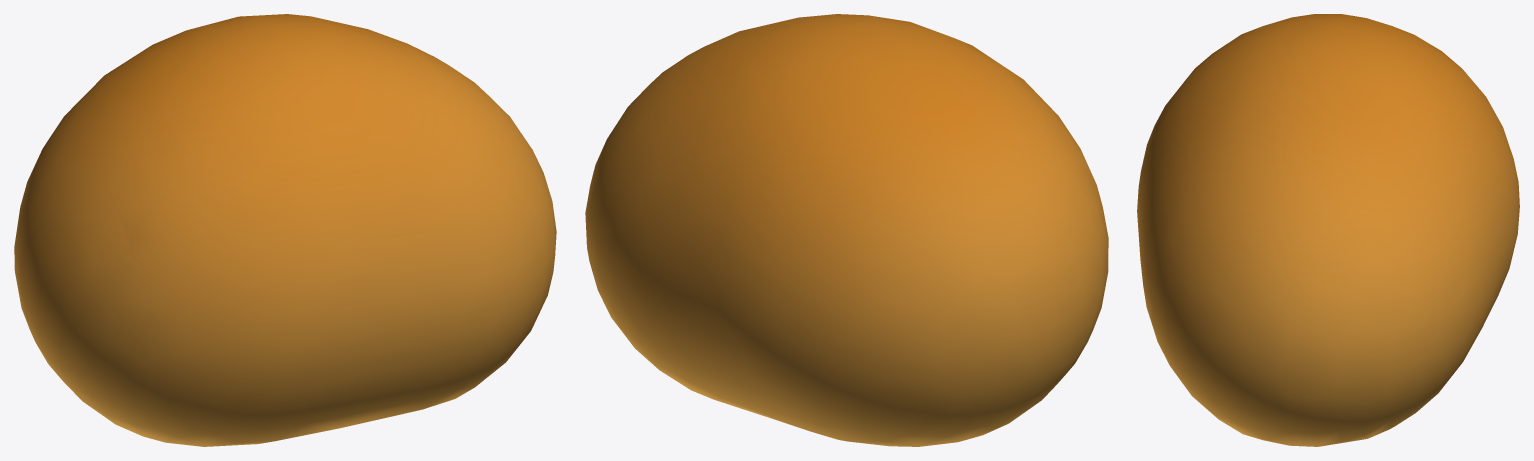
The model's file is fosil_cristalizado.fbx.
3 renders of one model, left to right at view 1: azimuth 30°, elevation 25°; view 2: azimuth 150°, elevation 25°; view 3: azimuth 270°, elevation 25°, orthographic. The views are drawn at different scales.
Parts seen in each view (by area): view 1: fosil_cristalizado_cristal; view 2: fosil_cristalizado_cristal; view 3: fosil_cristalizado_cristal.
Part boxes in pixels (left/top/right/bottom): fosil_cristalizado_cristal: left=14, top=14, right=556, bottom=446; fosil_cristalizado_cristal: left=585, top=14, right=1108, bottom=446; fosil_cristalizado_cristal: left=1137, top=14, right=1519, bottom=446.
Size of the model in its own units: 2.39 by 1.66 by 1.8.
2 materials, 2 textured.
